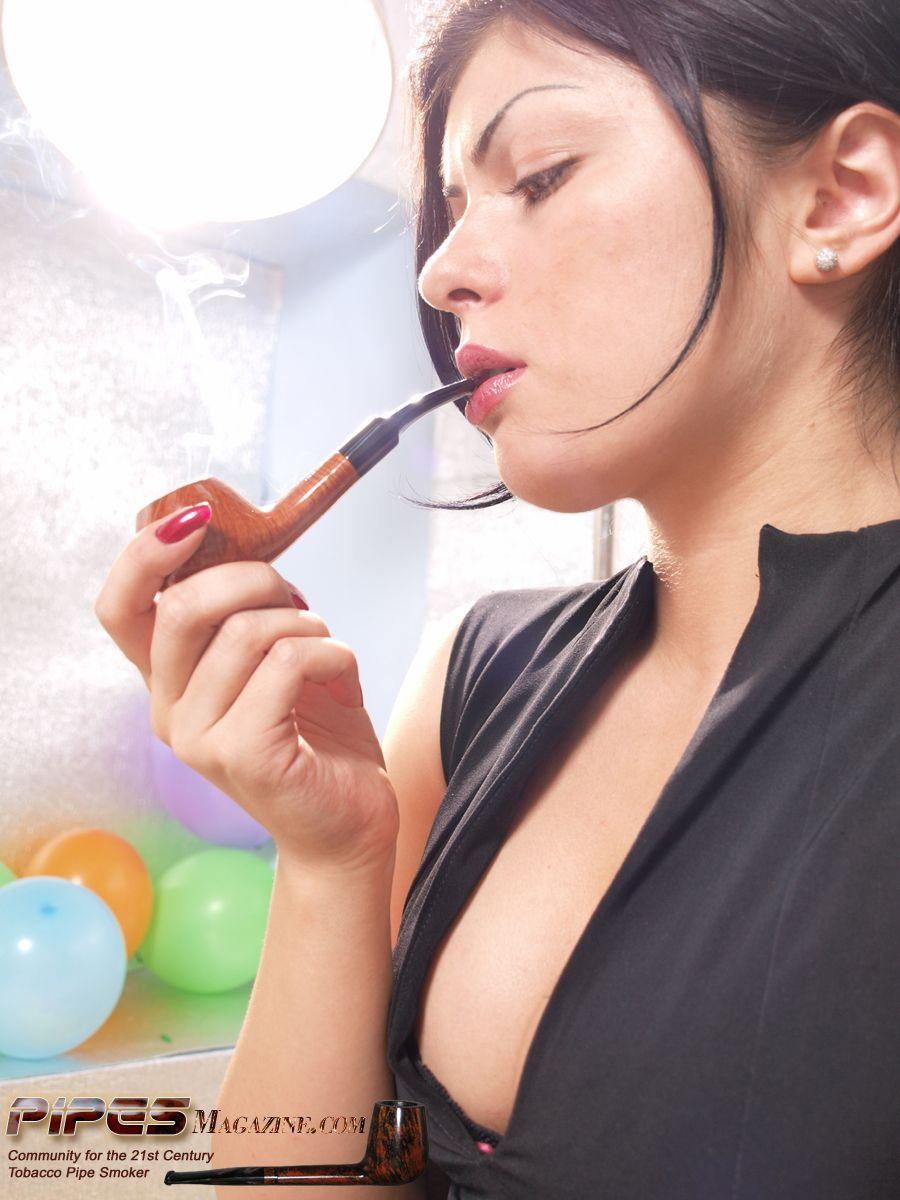trubka: (137, 373, 490, 592)
